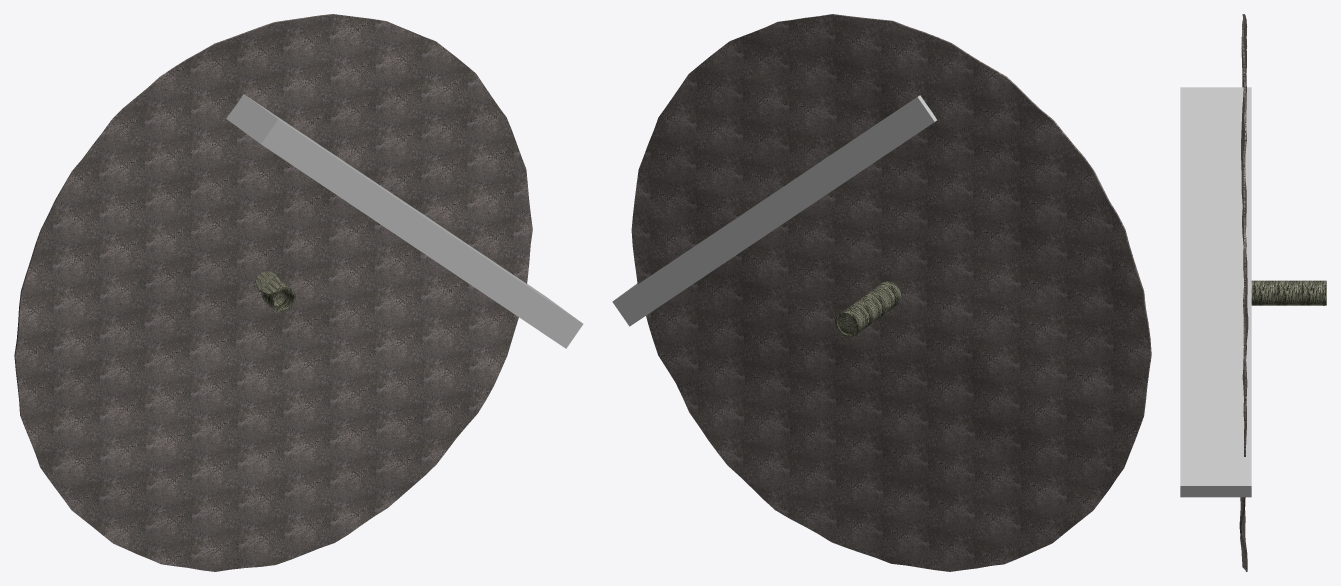
The model's file is Well_FR.fbx.
The picture shows the model from 3 angles, left to right: view 1: azimuth 30°, elevation 25°; view 2: azimuth 150°, elevation 25°; view 3: azimuth 270°, elevation 25°; orthographic projection. The views are drawn at different scales.
Visible parts, largest first — view 1: RefObj01, Box01; view 2: RefObj01, Box01, Tube01; view 3: Box01, RefObj01, Tube01.
Boxes of the visible parts, x1,y1,x2,y2 form: RefObj01: (14,14,532,571); Box01: (226,94,583,348); RefObj01: (631,14,1151,571); Box01: (612,95,936,326); Tube01: (835,281,900,337); Box01: (1180,87,1251,497); RefObj01: (1239,14,1248,571); Tube01: (1251,280,1326,305).
Bounding box in the file's own units: 326 × 316 × 82.91.
